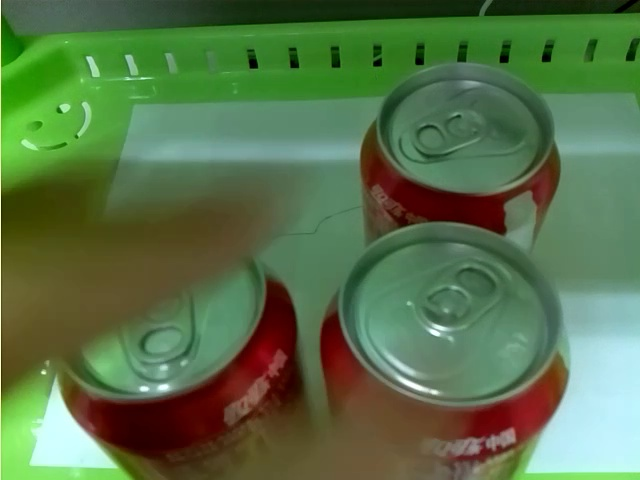cocacola: (314, 220, 569, 479), (56, 244, 308, 478), (352, 58, 561, 239)
